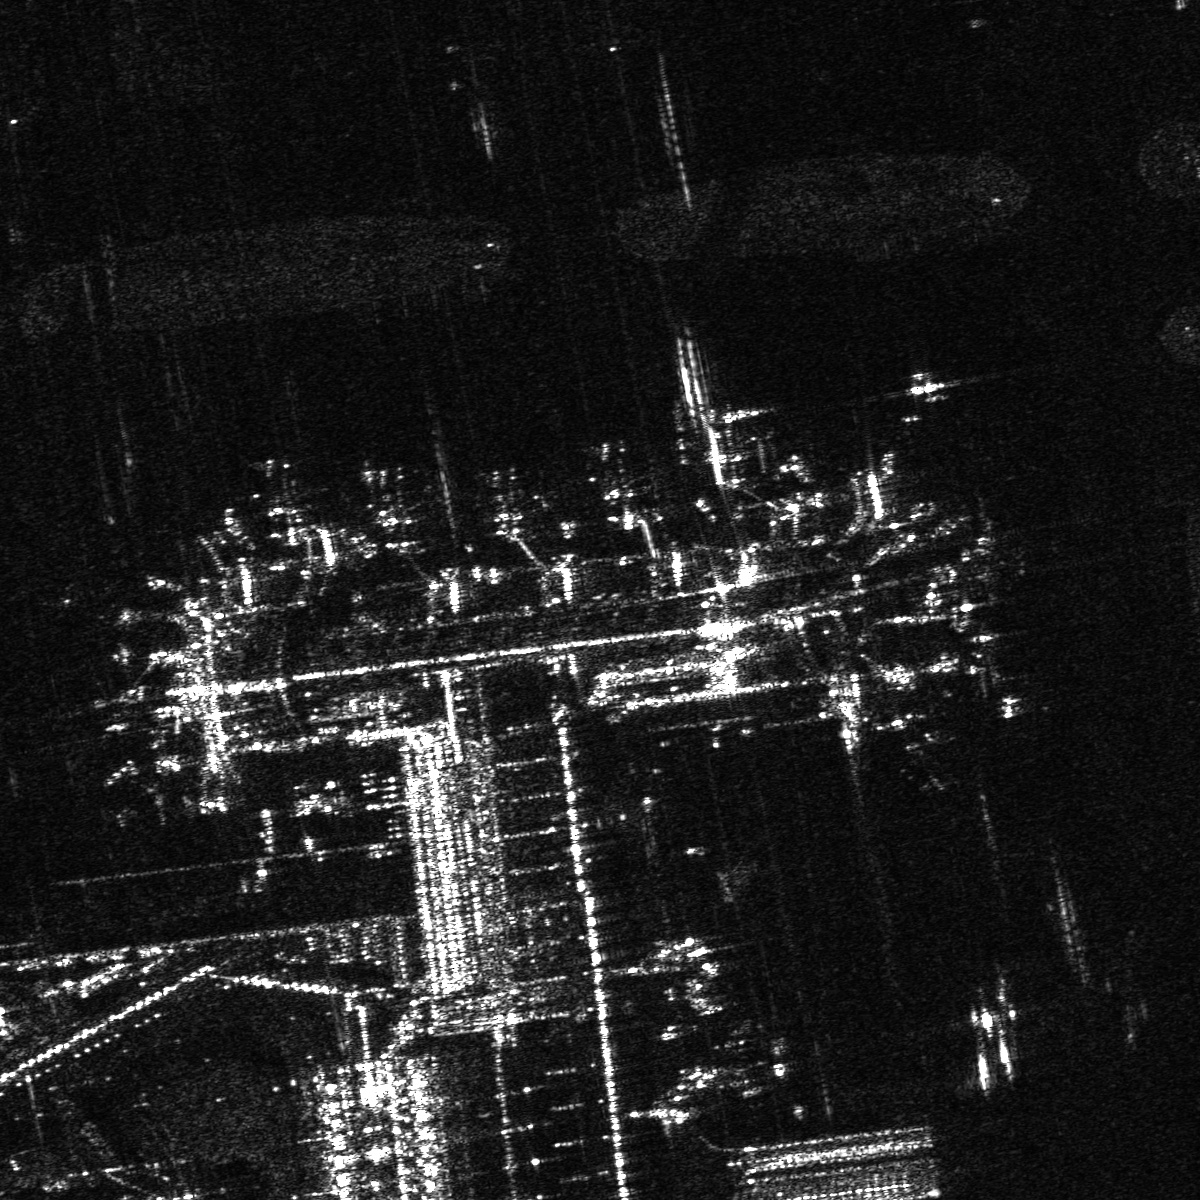A220: (245, 457, 333, 545), (356, 464, 438, 555), (473, 462, 553, 545), (581, 438, 651, 527)
Boeing787: (113, 777, 173, 829)
